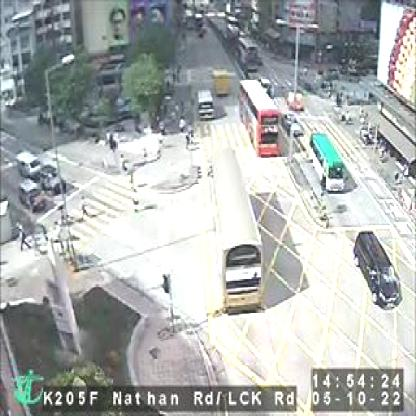Bus: (210, 148, 262, 310), (238, 80, 277, 156), (238, 35, 259, 69)
Car: (354, 230, 399, 307), (15, 177, 43, 211), (38, 167, 64, 194), (13, 151, 39, 175), (197, 89, 214, 116)
Minibus: (307, 132, 344, 192)
Truck: (212, 68, 230, 94)
